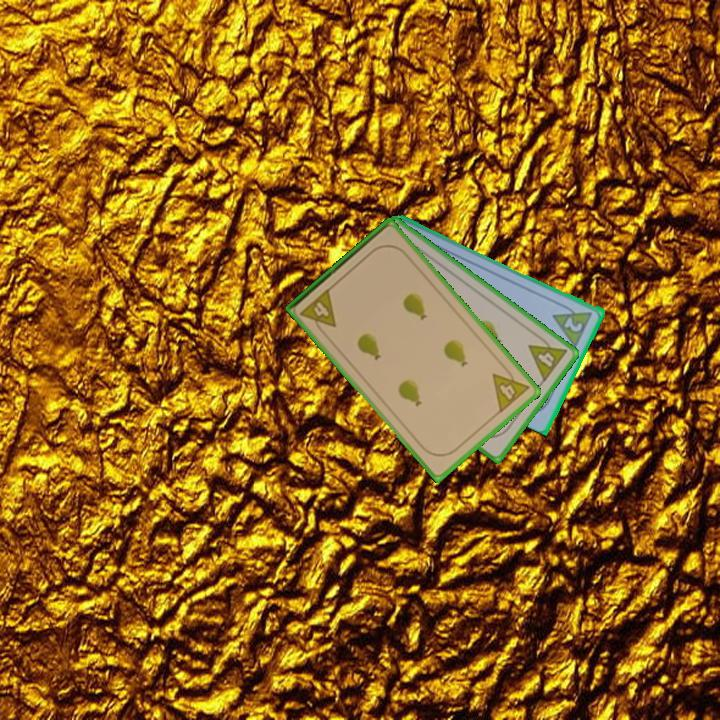2p: (549, 299, 596, 349)
4p: (525, 330, 570, 385), (489, 361, 532, 416), (297, 285, 339, 338)
